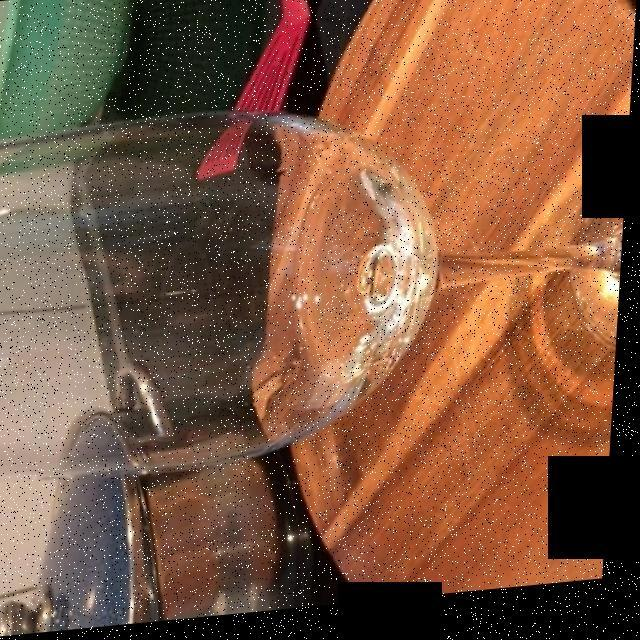wine: (297, 171, 443, 406)
